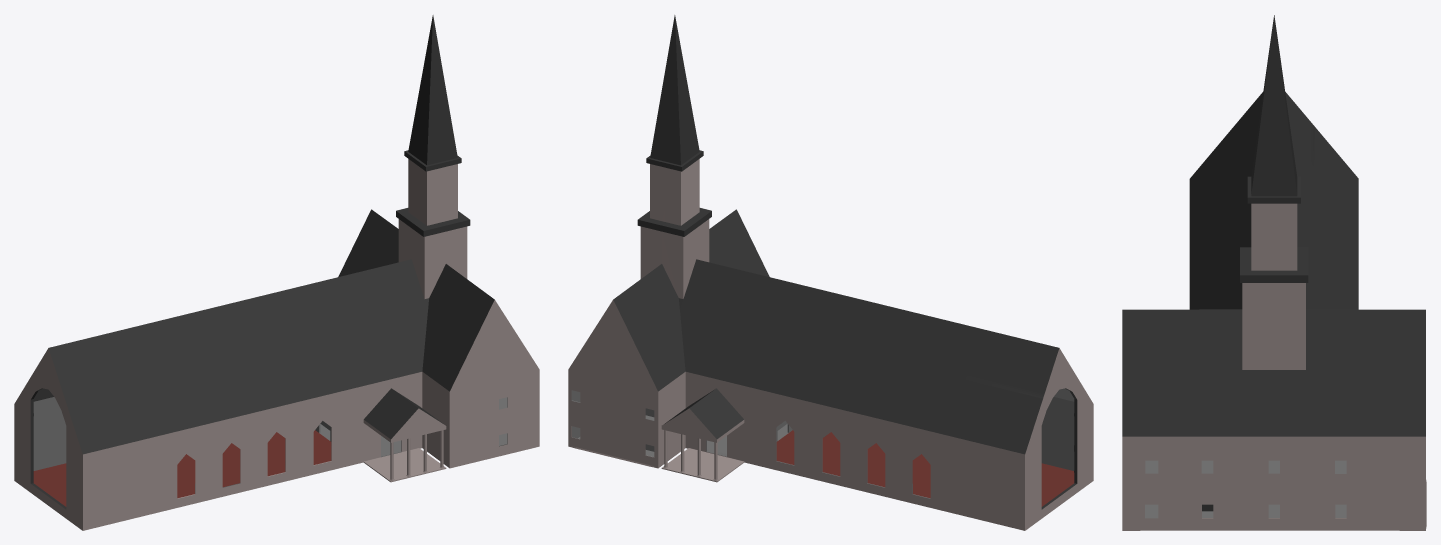
File: Church_Level.fbx
3 views of the same model, side by side, from view 1: azimuth 30°, elevation 25°; view 2: azimuth 150°, elevation 25°; view 3: azimuth 270°, elevation 25° (orthographic). The views are drawn at different scales.
Parts seen in each view (by area): view 1: Church_Level, Portch, Columns; view 2: Church_Level, Portch, Columns; view 3: Church_Level.
Part boxes in pixels (x1=…): Church_Level: x1=14, y1=15, x2=539, y2=530; Portch: x1=363, y1=448, x2=446, y2=482; Columns: x1=389, y1=430, x2=444, y2=480; Church_Level: x1=568, y1=15, x2=1093, y2=530; Portch: x1=661, y1=448, x2=744, y2=482; Columns: x1=663, y1=430, x2=718, y2=480; Church_Level: x1=1122, y1=15, x2=1426, y2=530.
Size of the model in its own units: 4727 by 4189 by 2356.
